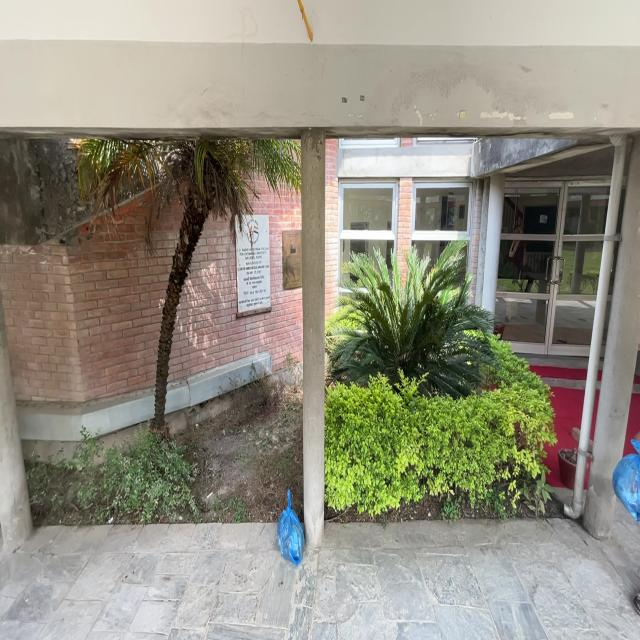garbage: (266, 480, 312, 570)
